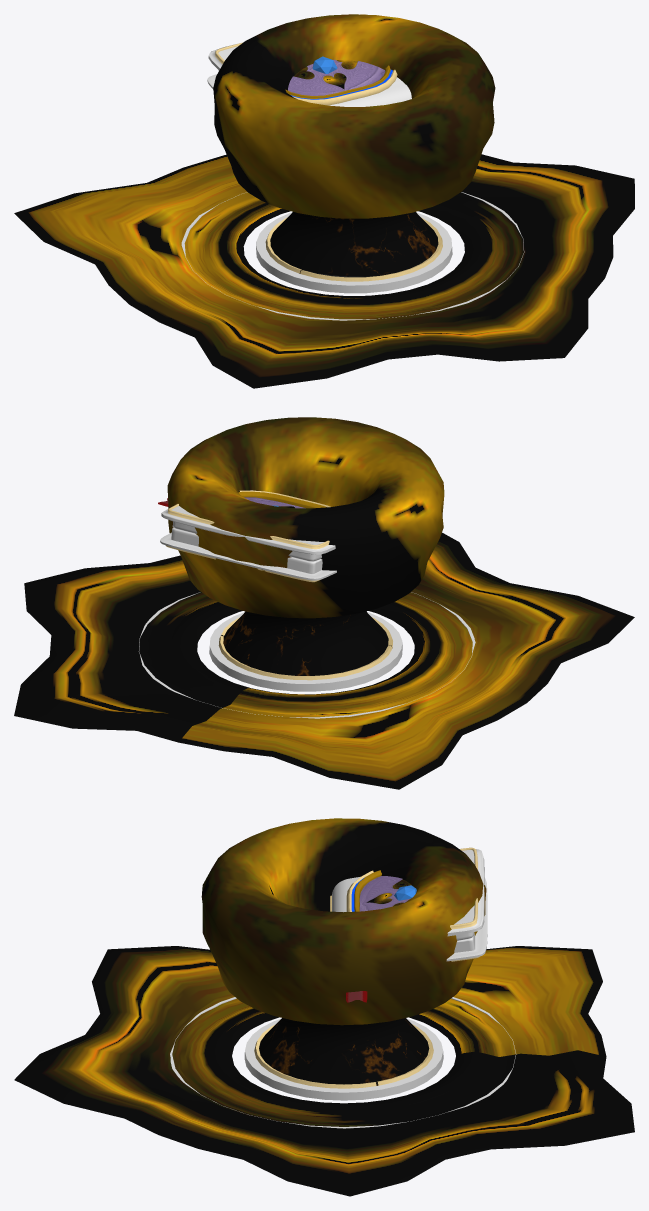
File: BookOfRa.fbx
3 views of the same model, one above another, from view 1: azimuth 30°, elevation 25°; view 2: azimuth 150°, elevation 25°; view 3: azimuth 270°, elevation 25° (orthographic). The views are drawn at different scales.
Visible parts, largest first — view 1: Cylinder.155, Cylinder.156, Cylinder.153, LIBRO.004; view 2: Cylinder.155, Cylinder.156, Cylinder.153, LIBRO.004, LIBRO.003, LIBRO; view 3: Cylinder.155, Cylinder.156, Cylinder.153, LIBRO.004, LIBRO.003.
Part boxes in pixels (bbox=[...]): Cylinder.155: bbox=[14, 154, 634, 388]; Cylinder.156: bbox=[213, 14, 495, 218]; Cylinder.153: bbox=[181, 192, 524, 320]; LIBRO.004: bbox=[208, 14, 411, 106]; Cylinder.155: bbox=[14, 532, 634, 789]; Cylinder.156: bbox=[167, 417, 444, 618]; Cylinder.153: bbox=[138, 592, 475, 718]; LIBRO.004: bbox=[161, 490, 335, 554]; LIBRO.003: bbox=[160, 533, 336, 582]; LIBRO: bbox=[158, 498, 322, 573]; Cylinder.155: bbox=[14, 946, 634, 1196]; Cylinder.156: bbox=[201, 818, 486, 1025]; Cylinder.153: bbox=[170, 997, 516, 1128]; LIBRO.004: bbox=[330, 847, 484, 936]; LIBRO.003: bbox=[446, 877, 487, 961].
Size of the model in its own units: 361 by 127 by 378.
12 materials, 7 textured.
